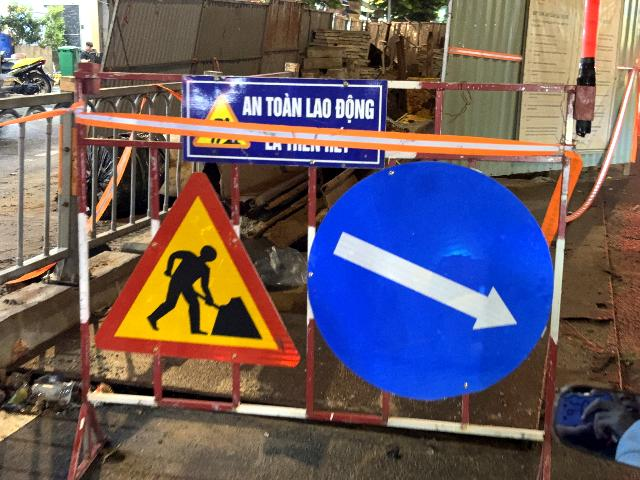cong-truong-dang-thi-cong: (94, 170, 300, 367)
huong-phai-di-vong-chuong-ngai-vat: (309, 161, 553, 400)
